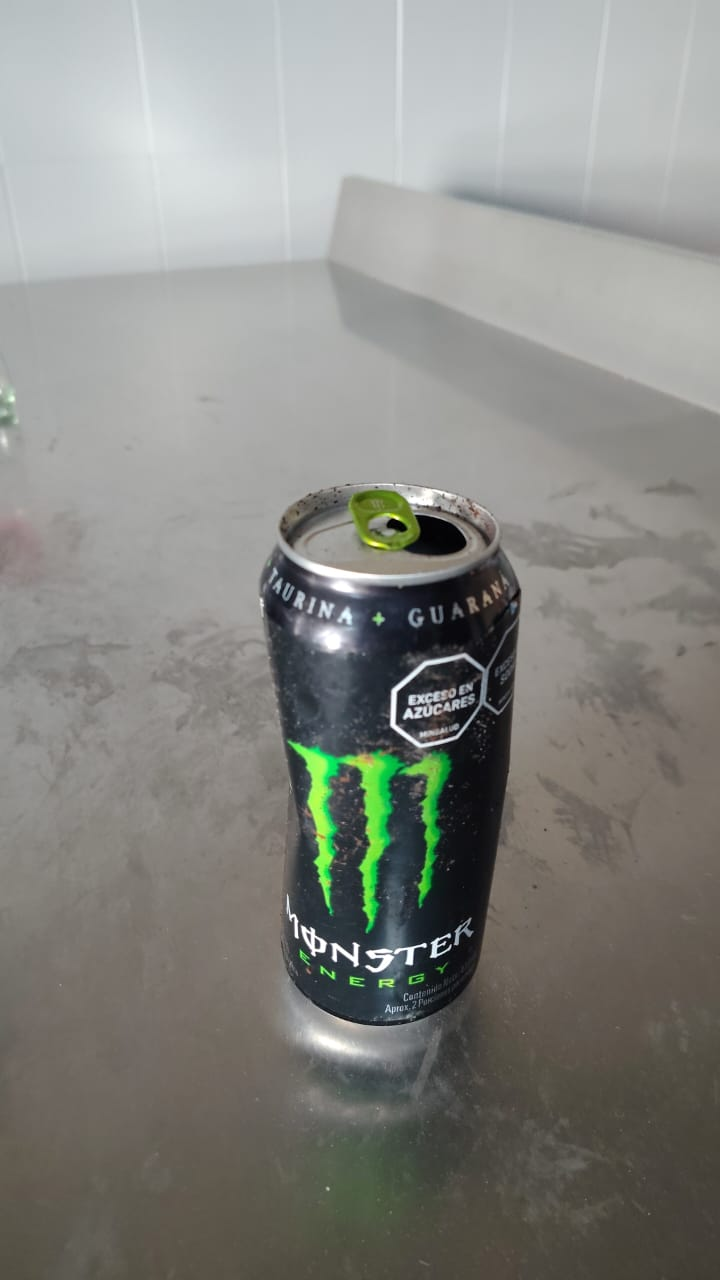Metal: (259, 482, 521, 1030)
